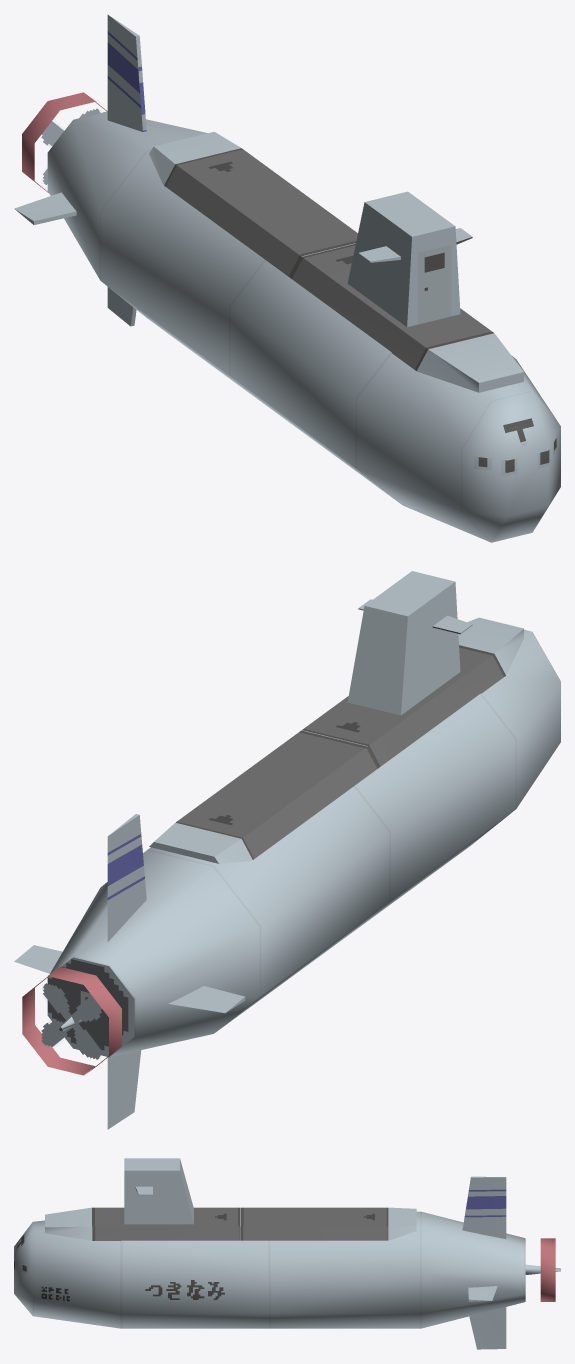
Rendered from 02cf_Submarine.glb.
3 renders of one model, top to bottom at view 1: azimuth 30°, elevation 25°; view 2: azimuth 150°, elevation 25°; view 3: azimuth 270°, elevation 25°, orthographic. The views are drawn at different scales.
Visible parts, largest first — view 1: part_0; view 2: part_0; view 3: part_0.
Part boxes in pixels (box(x1,y1,x2,y2)): part_0: box(14, 14, 560, 542); part_0: box(14, 571, 560, 1129); part_0: box(14, 1158, 560, 1349).
Size of the model in its own units: 6.88 by 9.8 by 26.34.
Materials: 1 (1 with a texture image).
